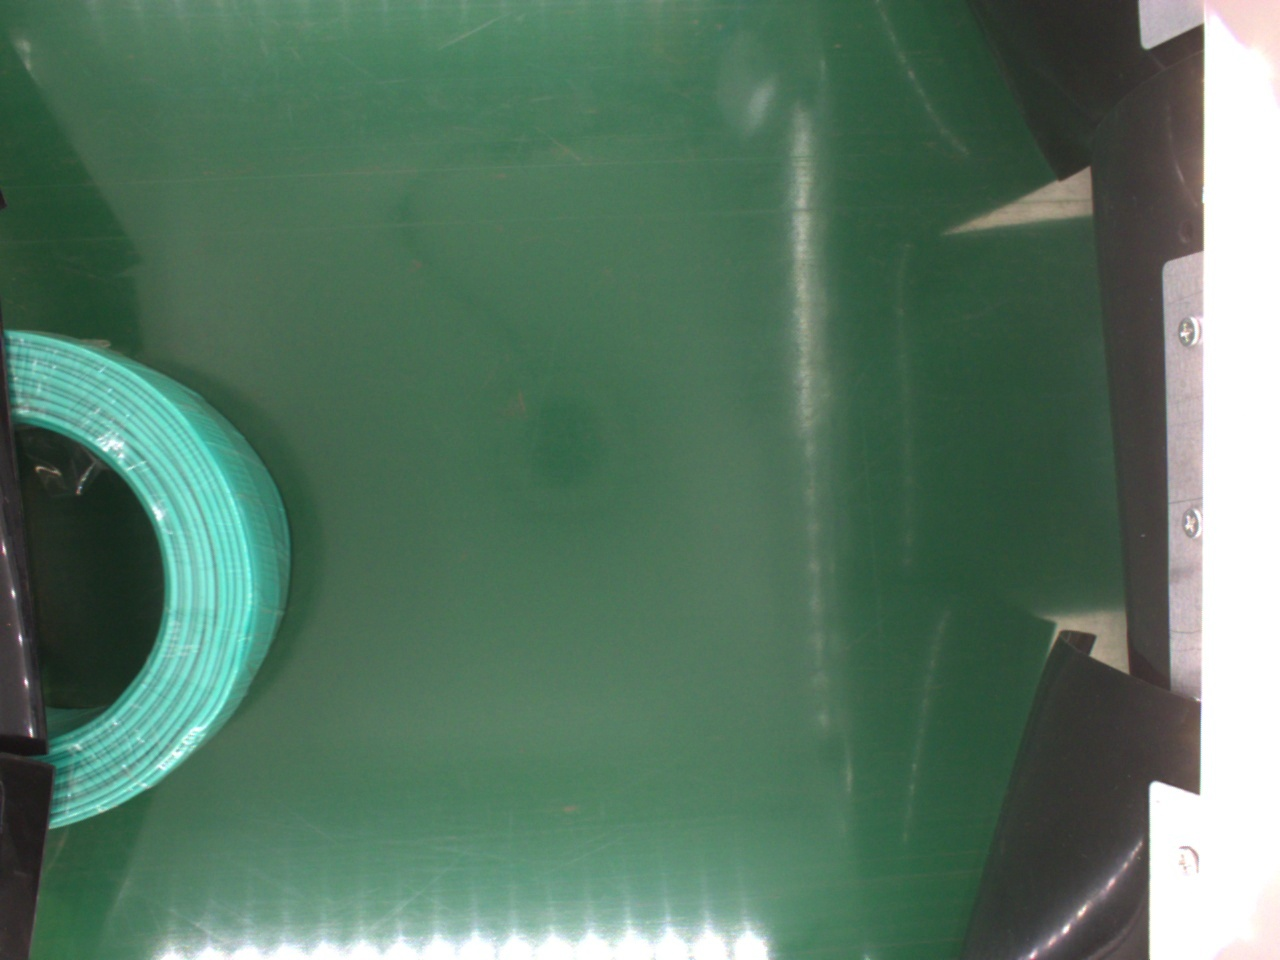green: (10, 330, 294, 832)
